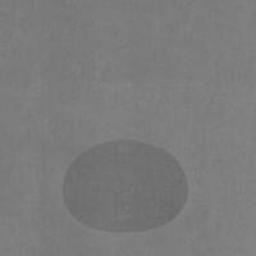Oil spot: (63, 140, 188, 233)
